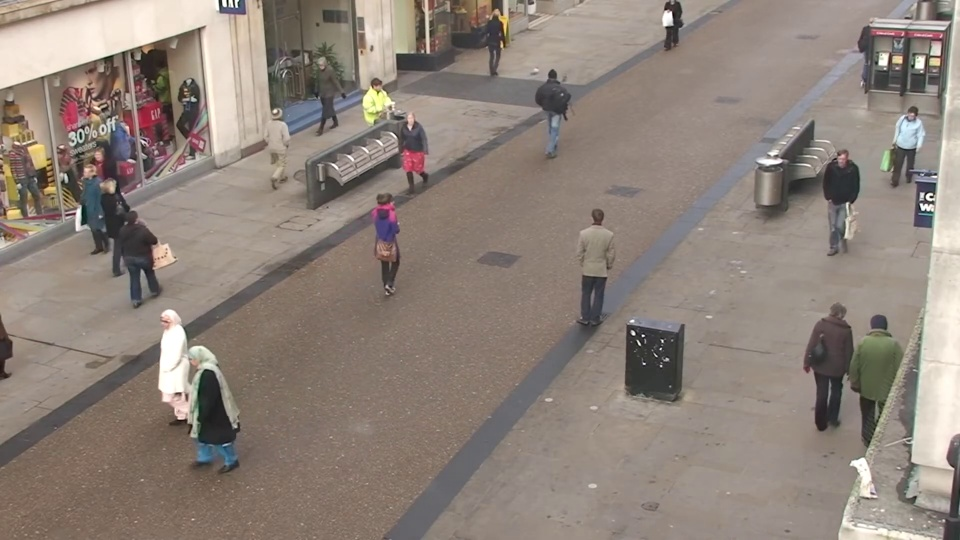pedestrian: (162, 339, 223, 491), (847, 301, 905, 447), (135, 304, 194, 446), (810, 290, 865, 432), (121, 200, 170, 315), (64, 166, 113, 272), (99, 171, 147, 279), (75, 148, 122, 250), (579, 204, 617, 324), (373, 182, 413, 296), (815, 151, 857, 258), (881, 106, 925, 202), (391, 111, 424, 205), (268, 99, 301, 188), (365, 75, 395, 158), (851, 15, 884, 89), (304, 58, 333, 137), (542, 61, 570, 142), (487, 7, 511, 72)
